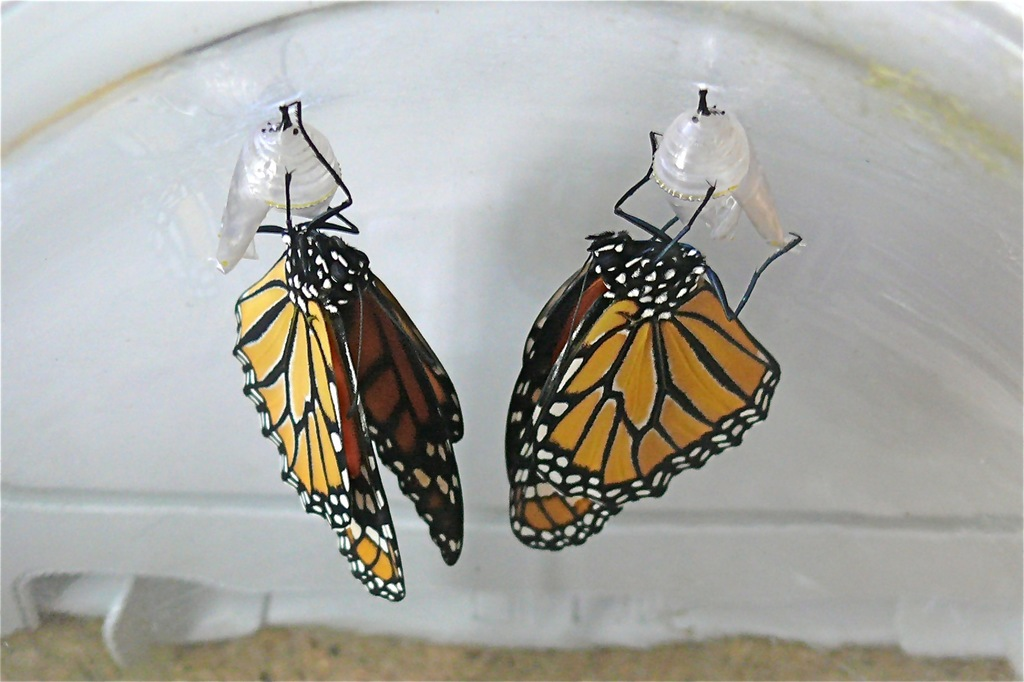Butterfly: (504, 189, 786, 551), (227, 177, 472, 586)
